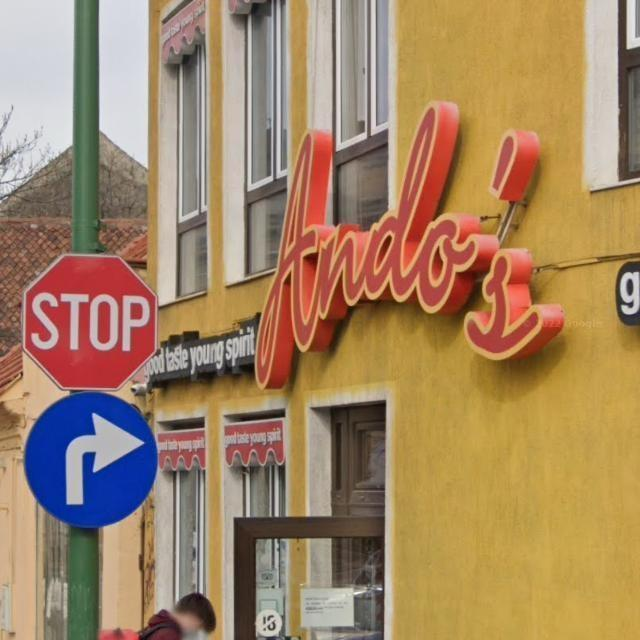prio_stop: (18, 252, 157, 391)
